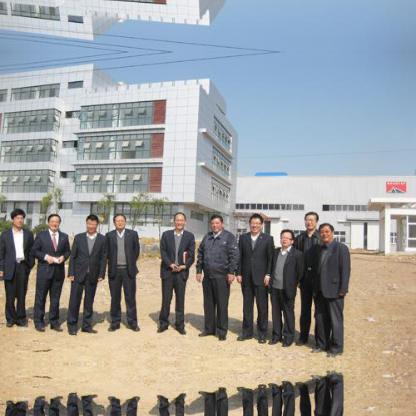No Helmet: (10, 202, 36, 231), (38, 214, 67, 236), (110, 210, 132, 236), (170, 212, 192, 237), (209, 212, 230, 238), (317, 225, 339, 248), (303, 211, 323, 236), (244, 215, 266, 236), (86, 216, 107, 237), (278, 229, 298, 249)
